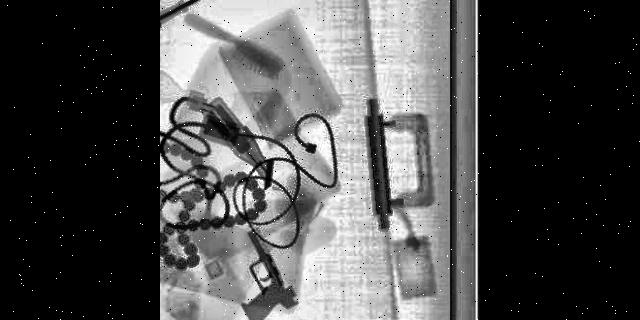Gun: (239, 229, 294, 320)
